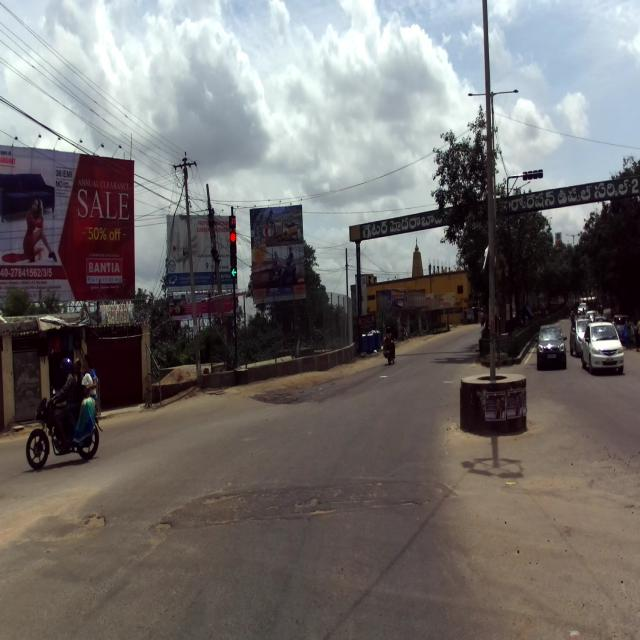motorcycle: (26, 386, 103, 469)
